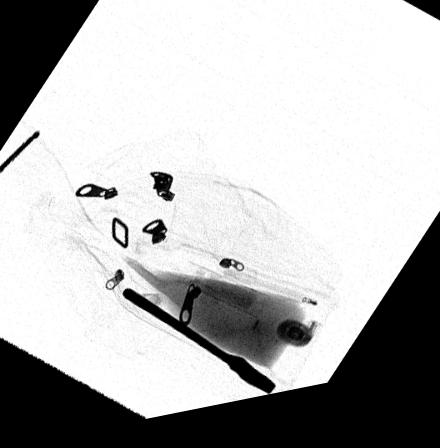Wrench: (120, 292, 277, 406)
